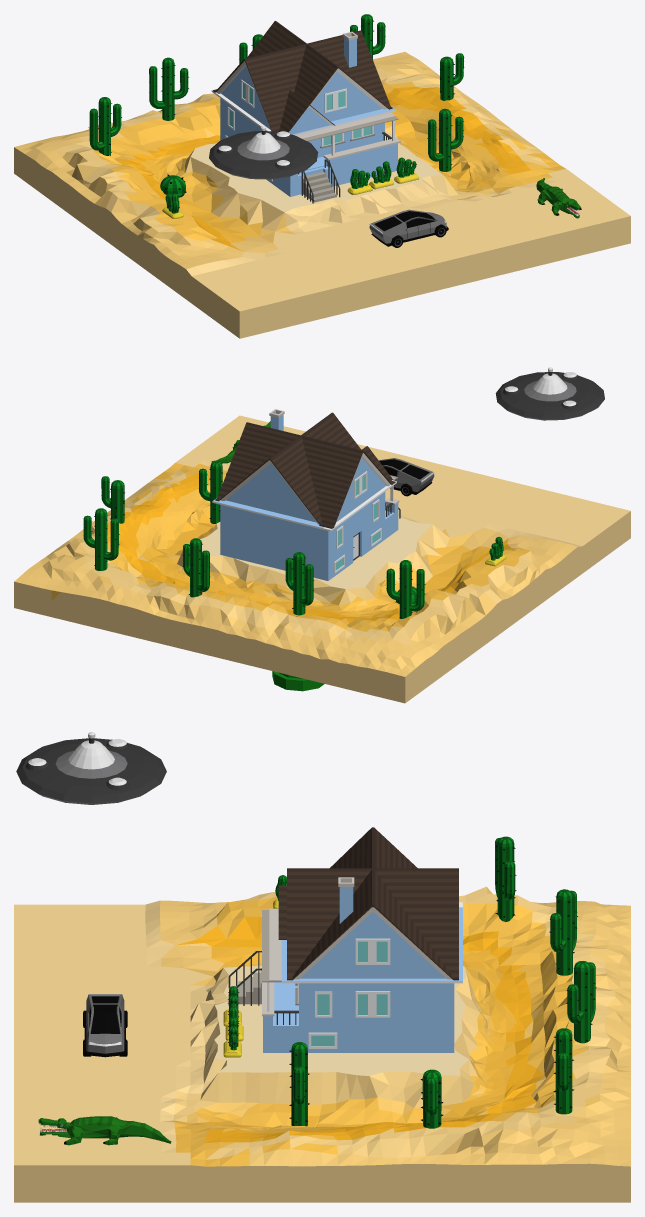
The picture shows the model from 3 angles, top to bottom: view 1: azimuth 30°, elevation 25°; view 2: azimuth 150°, elevation 25°; view 3: azimuth 270°, elevation 25°; orthographic projection. The views are drawn at different scales.
Parts seen in each view (by area): view 1: Cube.001, Cube.1594, OBJRANDOM_UFO, VEHICLES_CYBERTRUCK, Cylinder.044, Cylinder.037, Cylinder.045, ANIMAL_COCODRILO, Cylinder.038, Cylinder.042, Cylinder.041, Cylinder.039 (+1 smaller); view 2: Cube.001, Cube.1594, OBJRANDOM_UFO, Cylinder.042, Cylinder.045, Cylinder.044, VEHICLES_CYBERTRUCK, Cylinder.043, Cylinder.037, Cylinder.038, UNDERGROUND_PIPES; view 3: Cube.001, Cube.1594, OBJRANDOM_UFO, VEHICLES_CYBERTRUCK, ANIMAL_COCODRILO, Cylinder.043, Cylinder.044, Cylinder.045, Cylinder.042, Cylinder.037, Cylinder.038.
Part boxes in pixels (<box>): Cube.001: <box>14,52,630,338</box>; Cube.1594: <box>211,21,400,203</box>; OBJRANDOM_UFO: <box>209,126,318,179</box>; VEHICLES_CYBERTRUCK: <box>369,209,448,247</box>; Cylinder.044: <box>149,57,188,120</box>; Cylinder.037: <box>427,108,463,171</box>; Cylinder.045: <box>88,97,121,155</box>; ANIMAL_COCODRILO: <box>536,178,581,218</box>; Cylinder.038: <box>440,53,464,100</box>; Cylinder.042: <box>350,14,385,59</box>; Cylinder.041: <box>394,157,419,183</box>; Cylinder.039: <box>347,169,372,194</box>; Cube.001: <box>14,415,630,703</box>; Cube.1594: <box>212,409,400,580</box>; OBJRANDOM_UFO: <box>495,367,604,420</box>; Cylinder.042: <box>83,508,119,570</box>; Cylinder.045: <box>386,560,425,618</box>; Cylinder.044: <box>285,552,313,615</box>; VEHICLES_CYBERTRUCK: <box>379,458,434,496</box>; Cylinder.043: <box>182,538,209,597</box>; Cylinder.037: <box>199,461,226,523</box>; Cylinder.038: <box>101,476,124,523</box>; UNDERGROUND_PIPES: <box>272,671,324,691</box>; Cube.001: <box>14,886,630,1202</box>; Cube.1594: <box>228,827,462,1052</box>; OBJRANDOM_UFO: <box>16,732,166,804</box>; VEHICLES_CYBERTRUCK: <box>83,994,127,1057</box>; ANIMAL_COCODRILO: <box>38,1116,171,1145</box>; Cylinder.043: <box>566,961,596,1043</box>; Cylinder.044: <box>549,889,577,975</box>; Cylinder.045: <box>495,836,516,921</box>; Cylinder.042: <box>553,1028,574,1114</box>; Cylinder.037: <box>289,1042,309,1126</box>; Cylinder.038: <box>420,1069,443,1128</box>.
Bounding box in the file's own units: 4002 × 2407 × 4001.
Materials: 30 (2 with a texture image).
